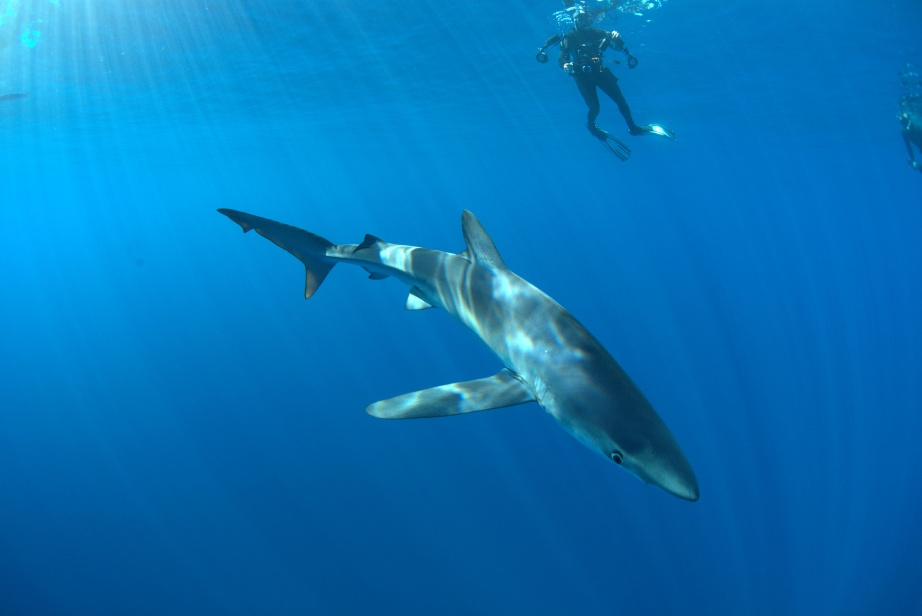Azul: (202, 206, 740, 514)
